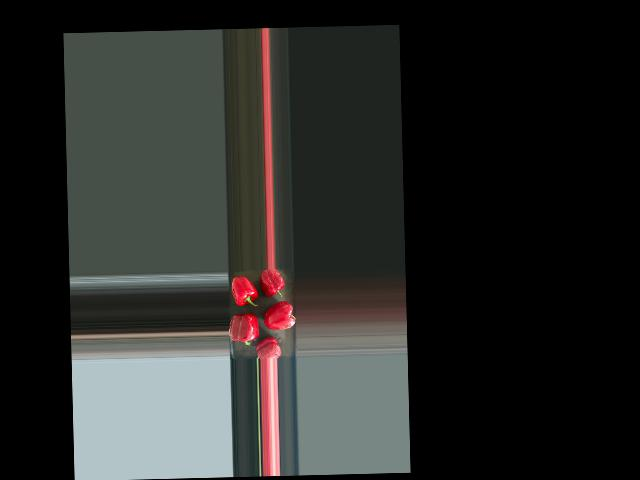bell_pepper: (254, 335, 285, 358)
